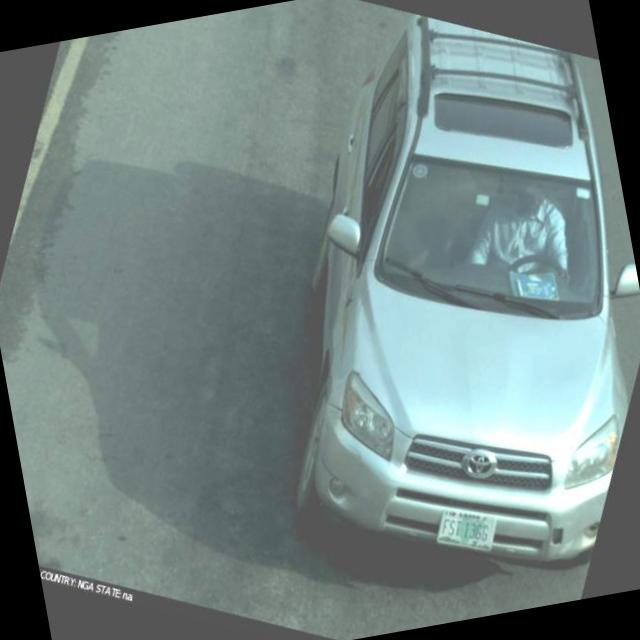person_without_seatbelt: (457, 150, 589, 302)
